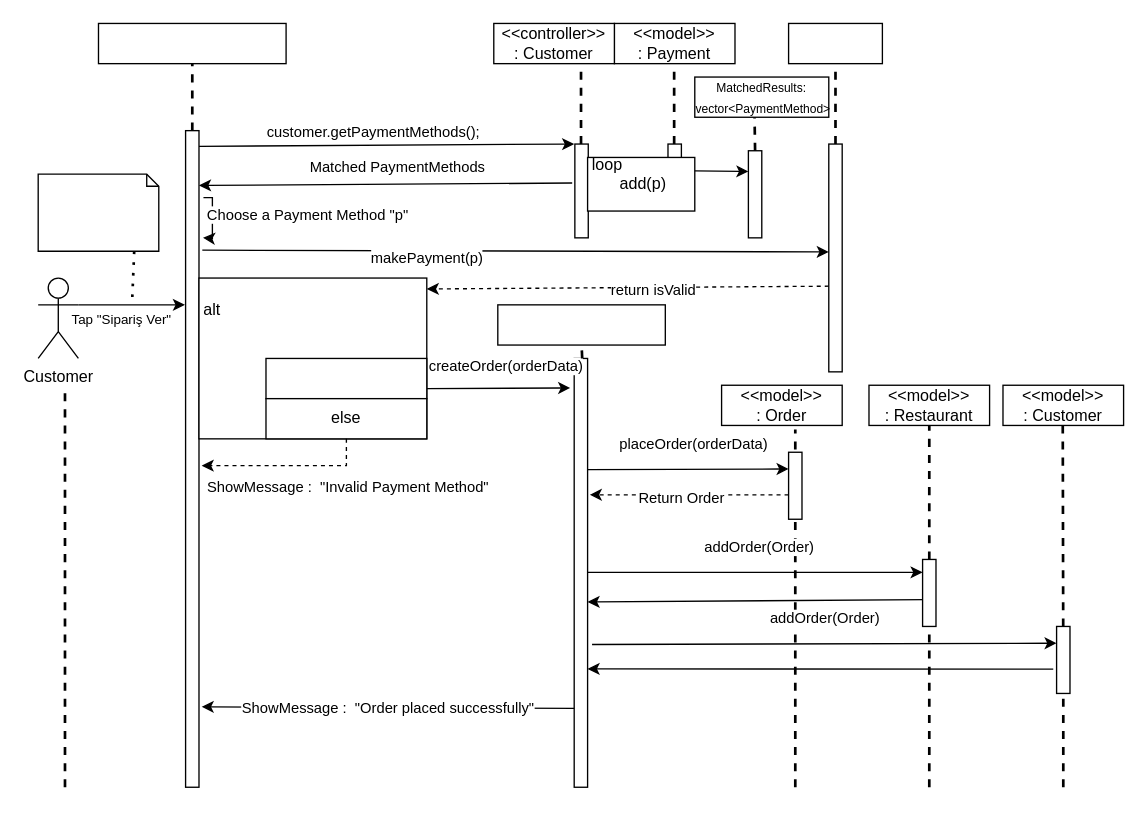
Image size: 1147x813. Some labels were removed from this diagram. The centre of each missing label's shape, as x and y in pixels:
<<controller>> :OrderController: the point at 580,324
<<view>> :SingleRestaurantPage: the point at 191,43
Bank: the point at 834,43
if(isValid): the point at 346,378
Restaurant , List<Menu> , List<OrderItem>: the point at 98,212
